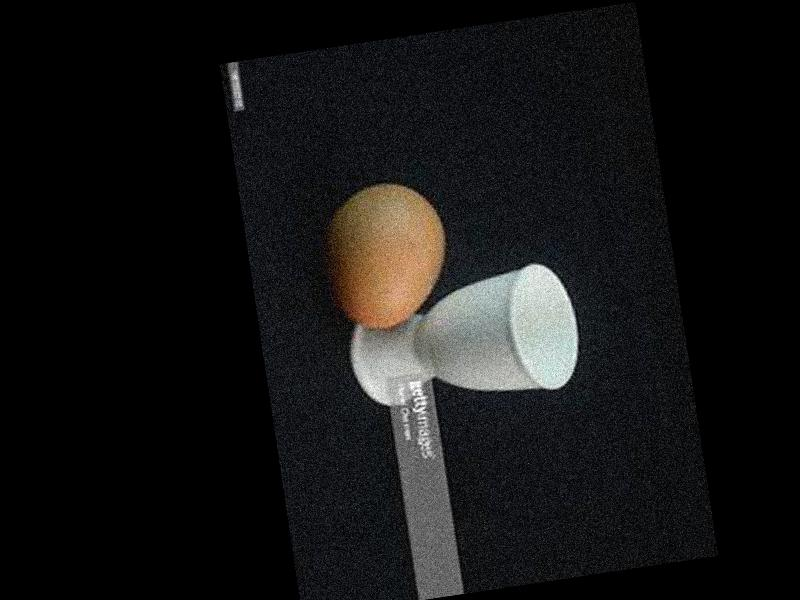Eggs: (322, 177, 457, 335)
